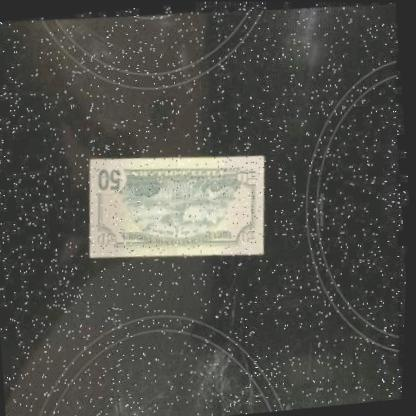fifty-back: (83, 138, 279, 269)
